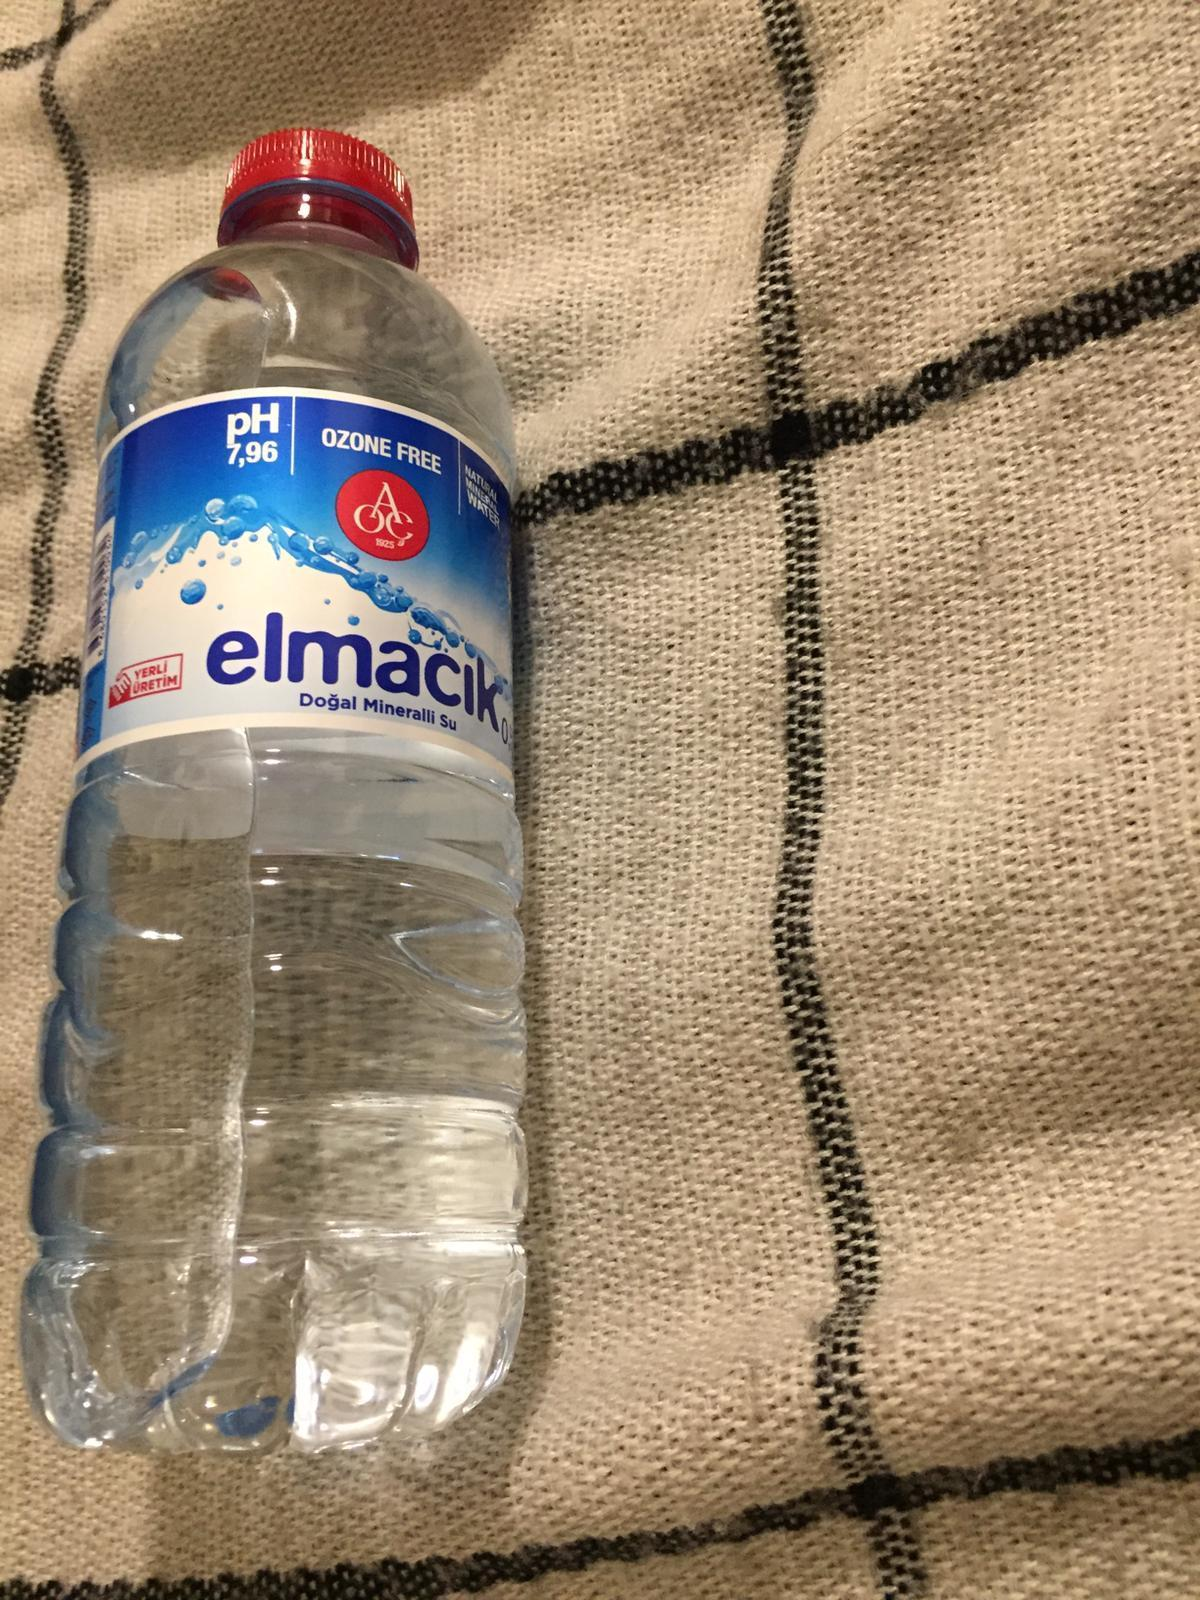bottle: (25, 123, 546, 1444)
